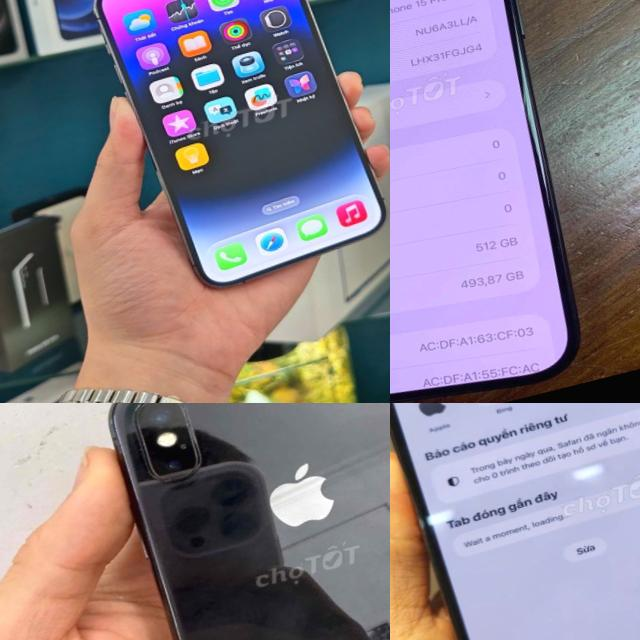gen_12_13: (390, 403, 640, 640)
gen_14: (83, 0, 390, 303)
gen_15: (390, 0, 615, 403)
gen_x_xs: (53, 403, 390, 640)
